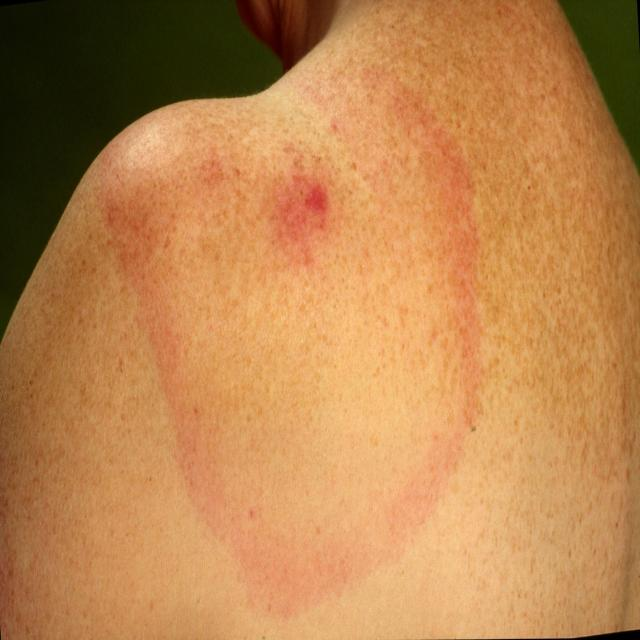Erythema chronicum migrans: (107, 149, 507, 607)
